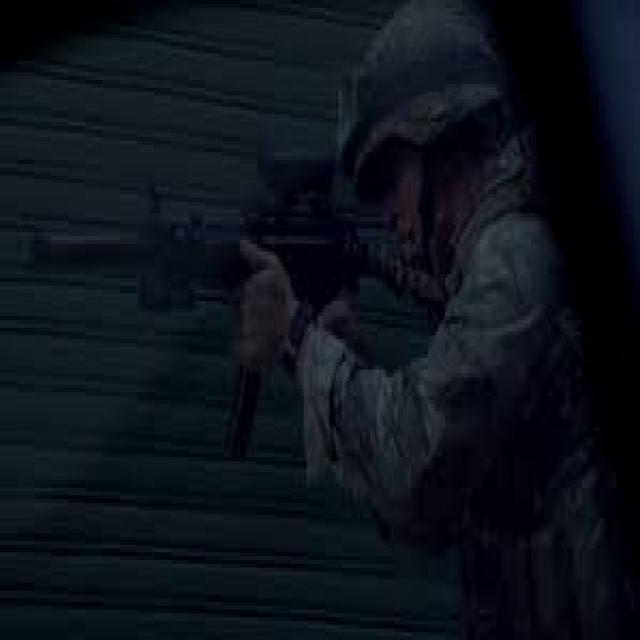weapon: (28, 144, 422, 468)
